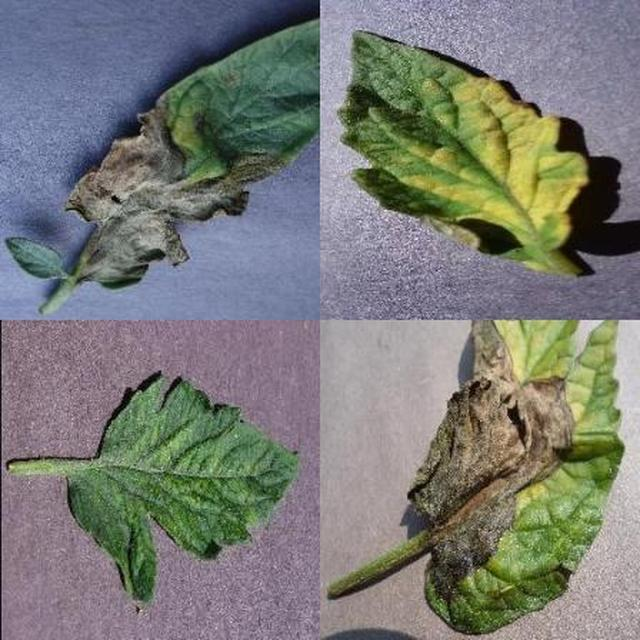Late Blight Leaf: (262, 218, 640, 640)
